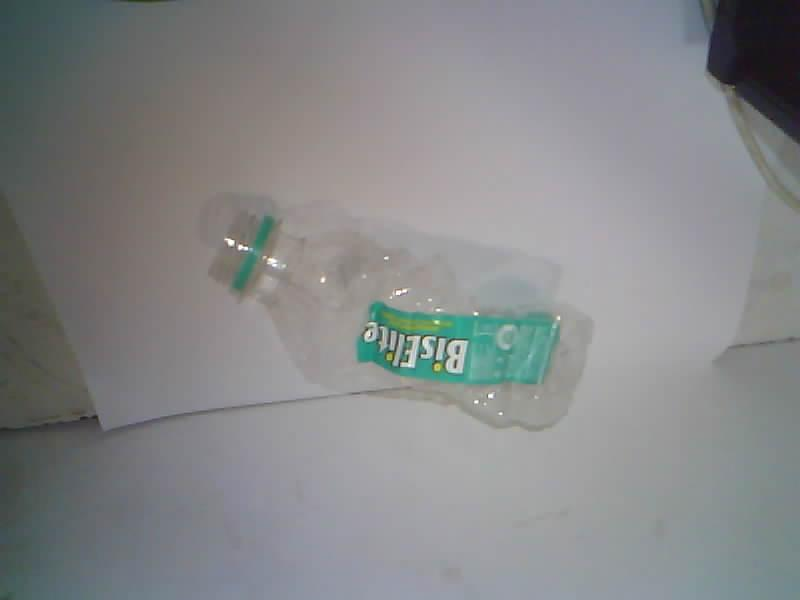non-biodegradable: (209, 209, 591, 429)
